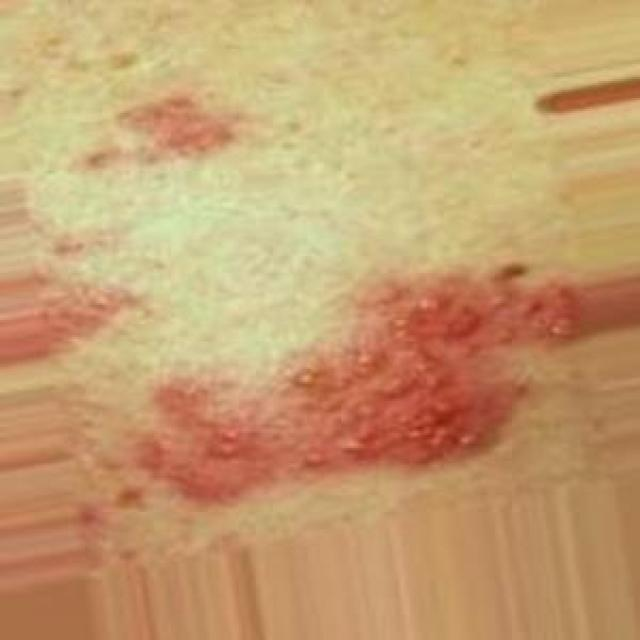Shingles: (142, 268, 575, 503), (41, 268, 133, 352), (115, 96, 234, 159)
